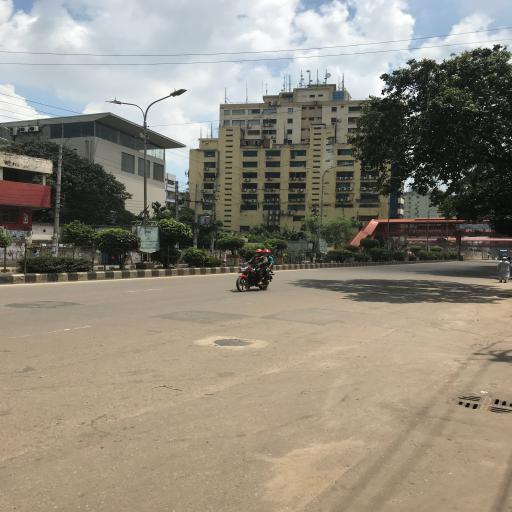motorbike: (235, 249, 276, 294)
truck: (498, 250, 510, 261)
